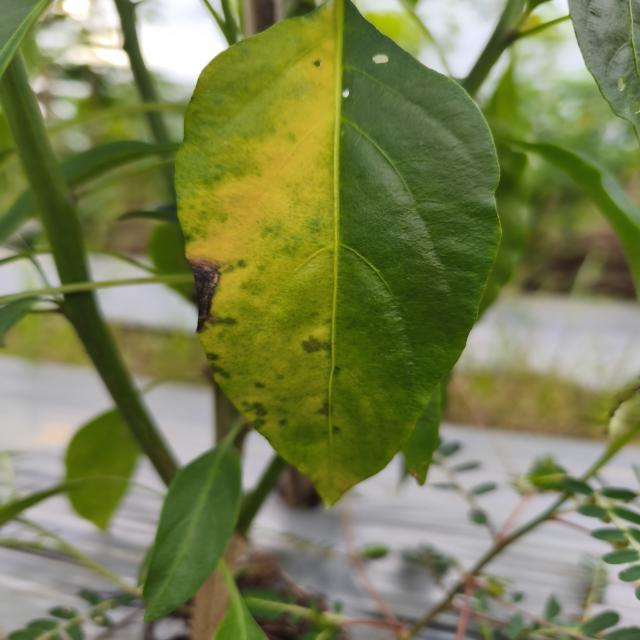Virus Kuning: (172, 0, 503, 509)
